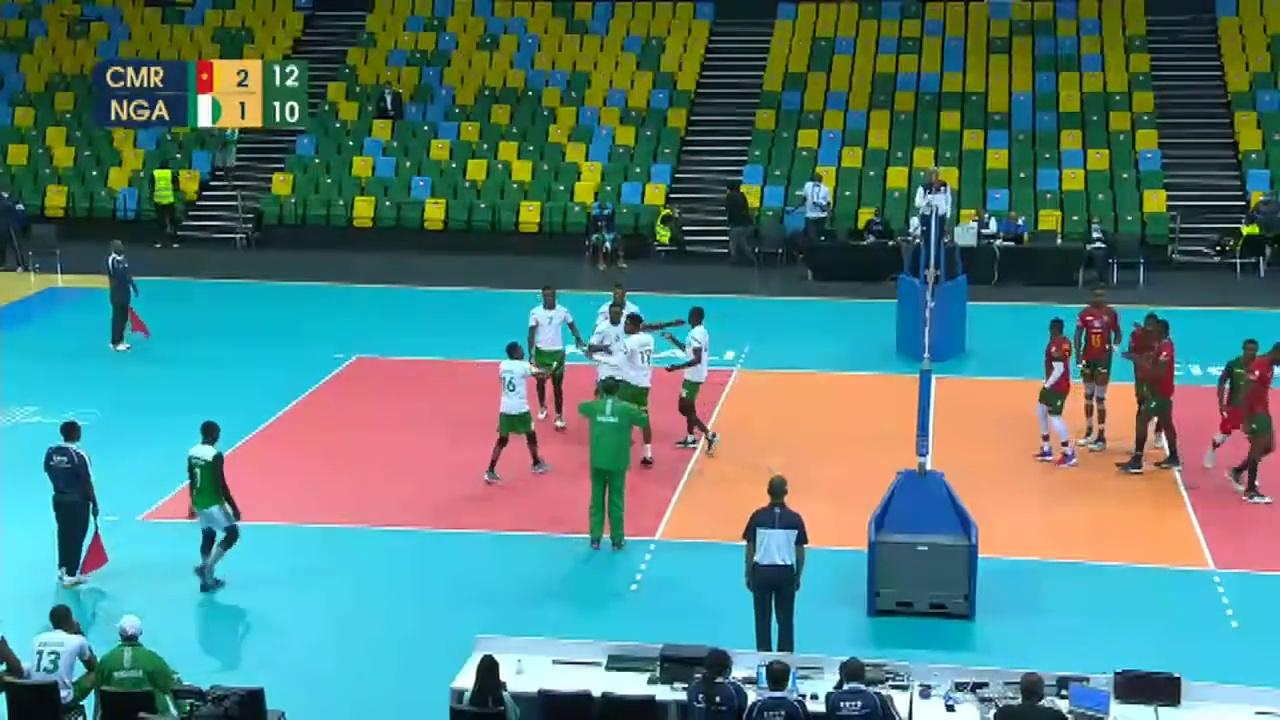player: (1126, 321, 1187, 480), (188, 425, 246, 587), (1229, 335, 1280, 513), (1072, 286, 1125, 452), (527, 288, 584, 427), (1204, 331, 1261, 469), (491, 337, 549, 471), (595, 278, 644, 427), (676, 306, 724, 458), (591, 301, 641, 442), (611, 316, 659, 462), (1037, 319, 1078, 462), (1131, 311, 1168, 446), (105, 241, 149, 349)
refree: (731, 463, 806, 654), (43, 422, 105, 585), (911, 164, 958, 277)
